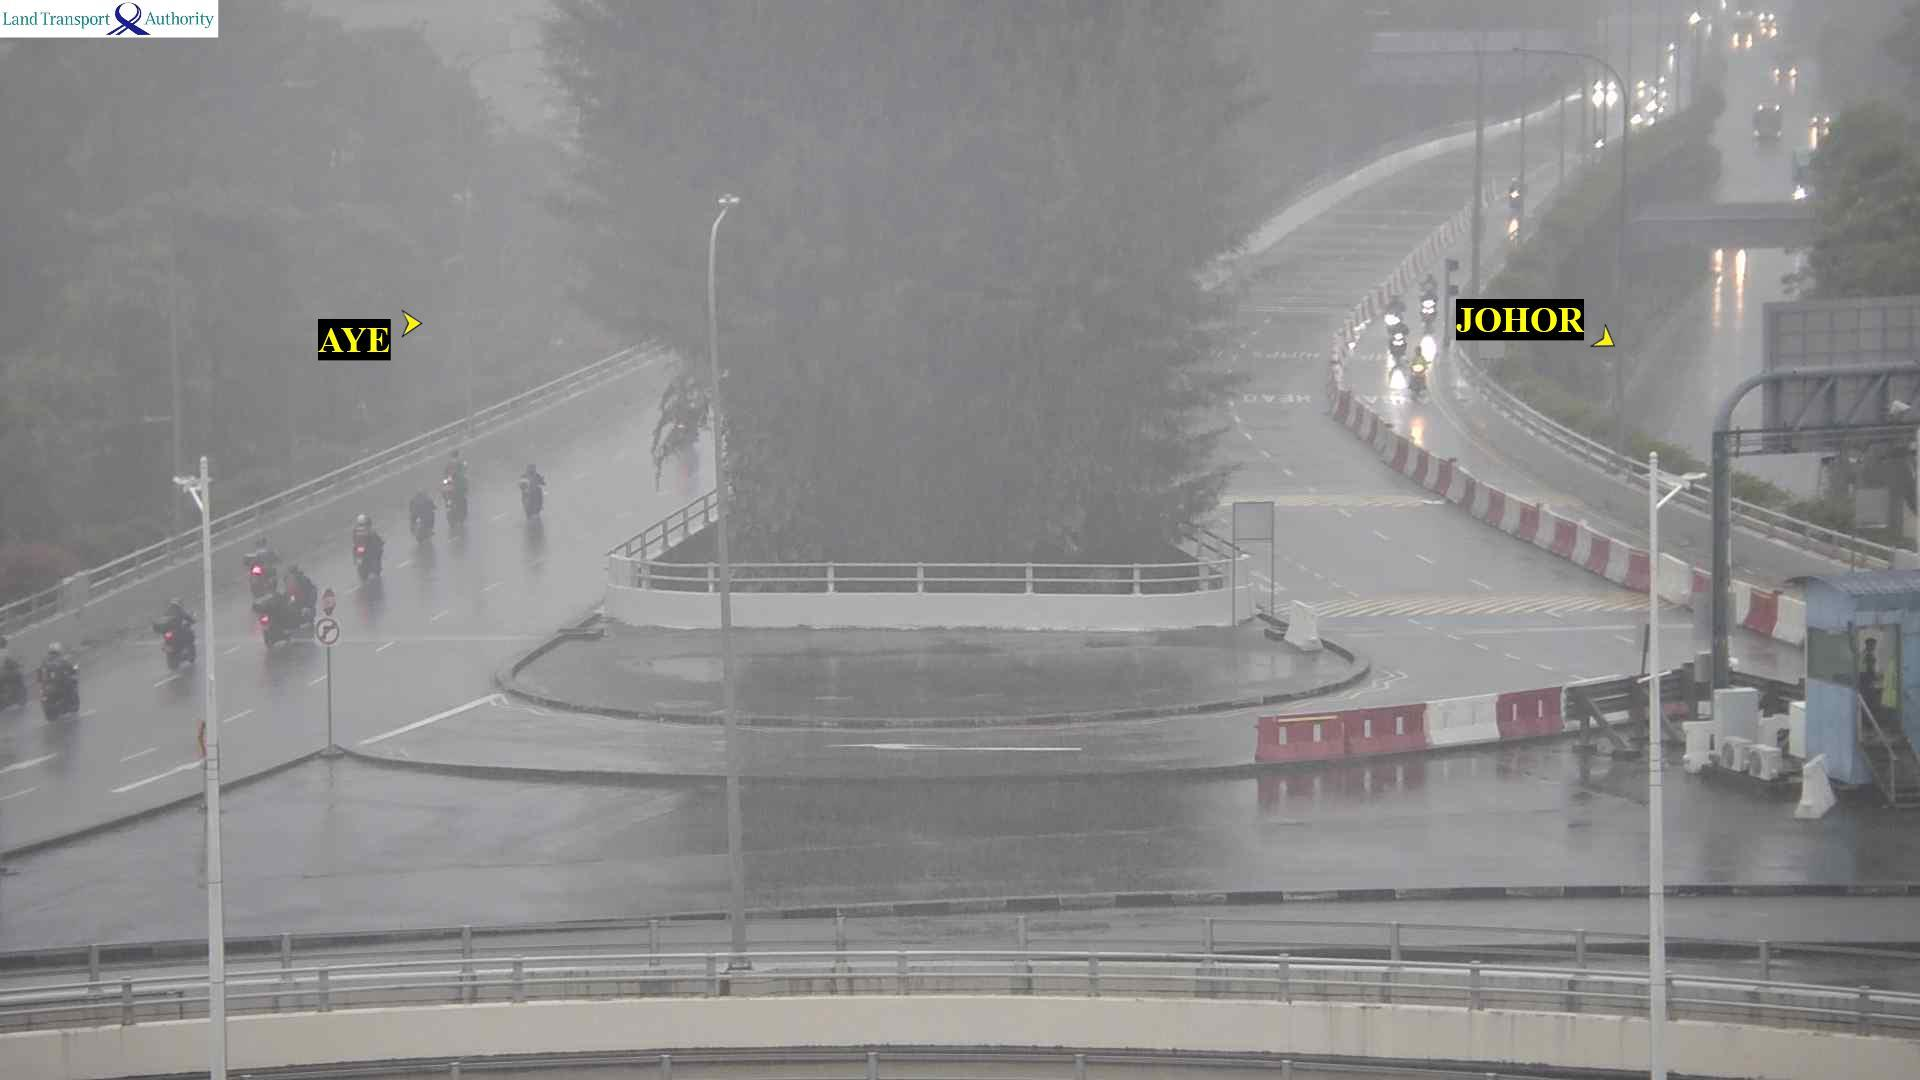vehicle-secondlink-johor: (1419, 268, 1438, 325), (1413, 357, 1436, 398), (1505, 183, 1521, 217), (1385, 296, 1400, 329), (1392, 320, 1404, 359)
vehicle-secondlink-singapore: (262, 568, 315, 642), (38, 643, 77, 715), (161, 599, 202, 666), (442, 453, 466, 537), (363, 524, 394, 581), (351, 521, 378, 578), (244, 542, 276, 588), (0, 647, 21, 709), (409, 490, 437, 532), (522, 466, 543, 515)
